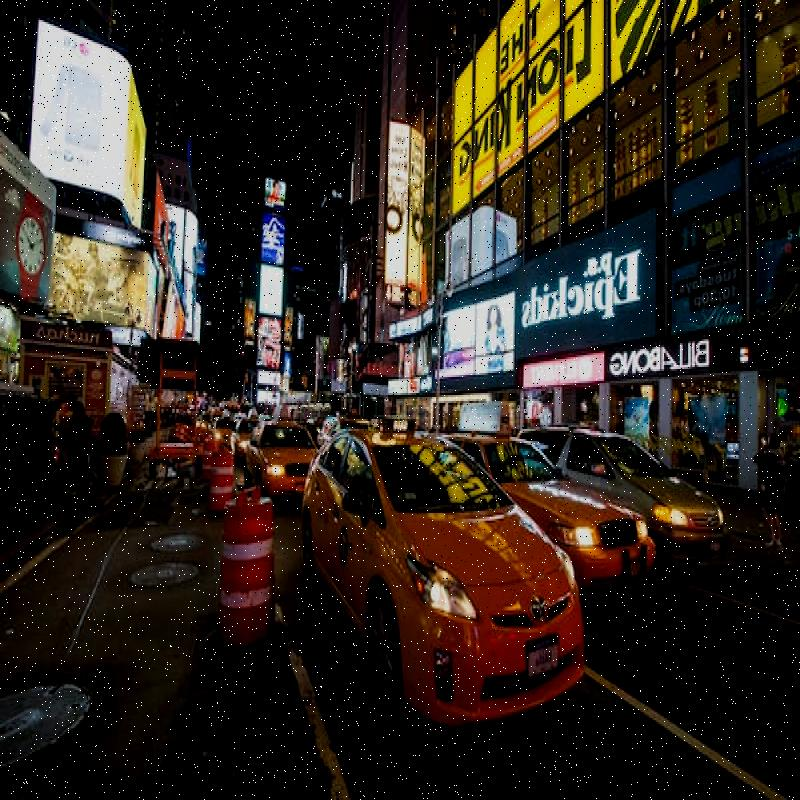car: (321, 464, 592, 730), (593, 414, 731, 562), (512, 443, 638, 587), (238, 405, 325, 510)
